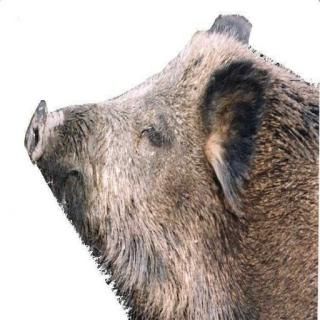Pig: (9, 19, 320, 314)
